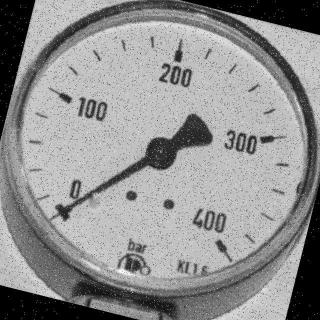gauge: (0, 0, 320, 313), (198, 222, 244, 264), (140, 132, 182, 173), (46, 192, 84, 226), (44, 207, 64, 227)
